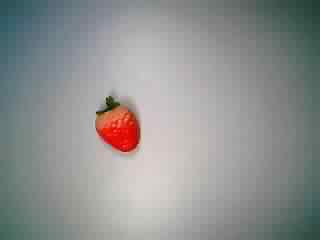strawberry: (82, 92, 150, 156)
